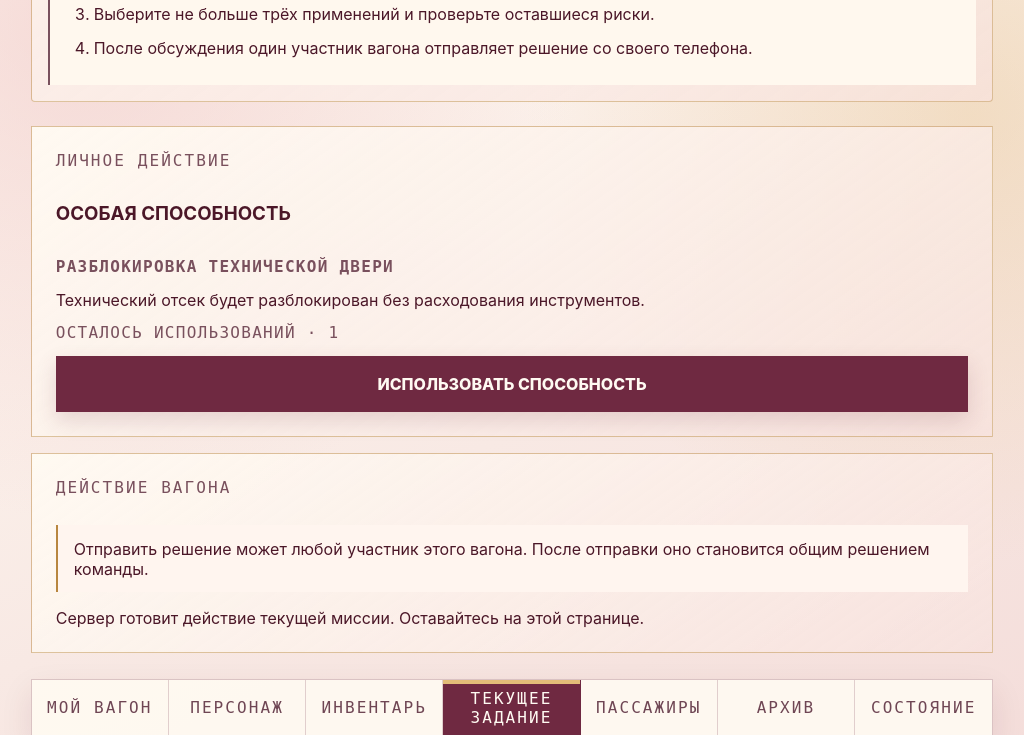
it: GuestJoinPage › loads the authoritative Bunker runtime through production dependencies and opens the active dashboard
This screenshot has width=1024, height=735.
(page scrolled)
What coordinates should you click on to do the following:
click the button "ИСПОЛЬЗОВАТЬ СПОСОБНОСТЬ"
I would click on:
 (512, 384)
Its box is [56,356,968,412].
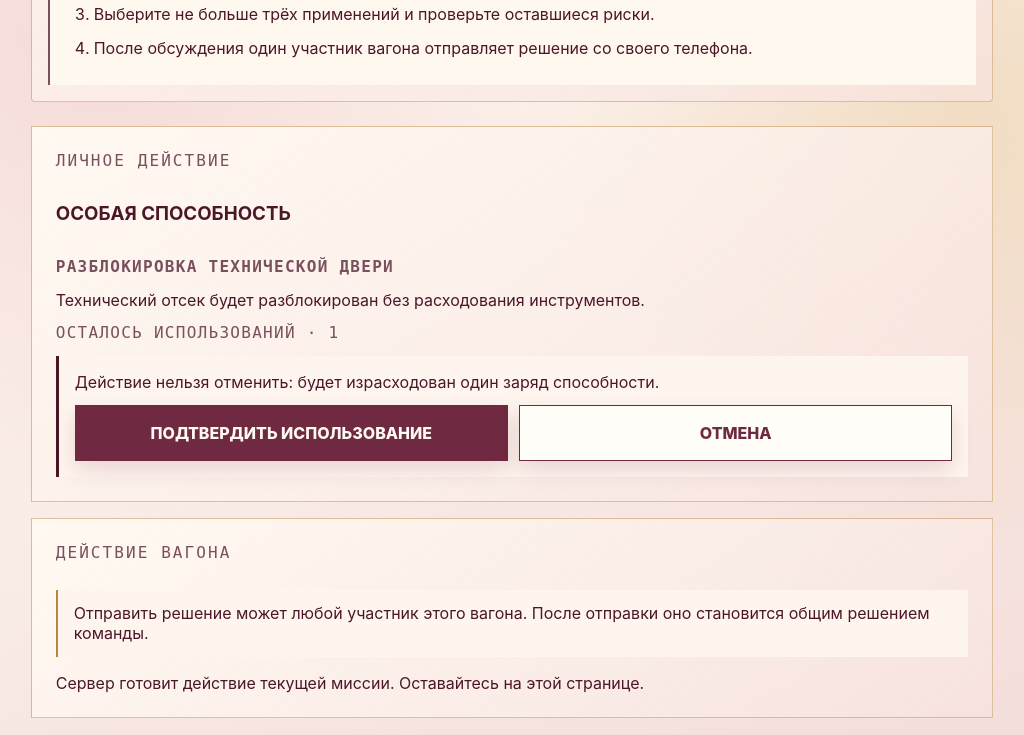
What coordinates should you click on to do the following:
click the button "ПОДТВЕРДИТЬ ИСПОЛЬЗОВАНИЕ"
I would click on:
 (291, 433)
Its box is [75,405,508,461].
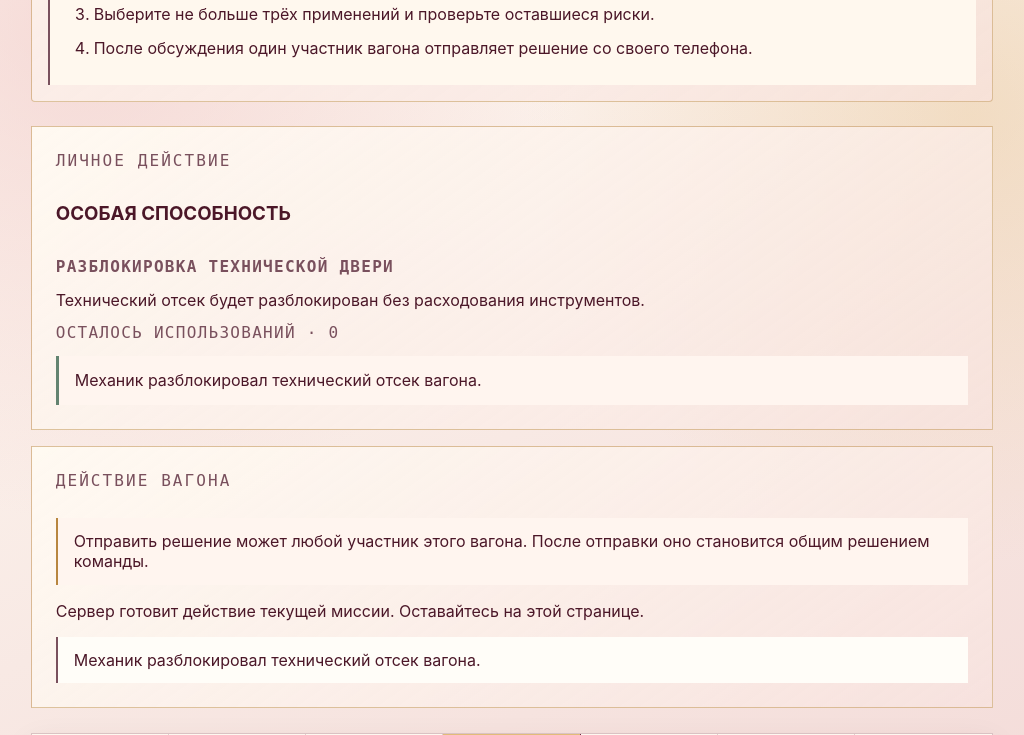
Expected: the text "Механик разблокировал технический отсек вагона." is shown 2 times, [56,356,968,405]; [56,637,968,683]
